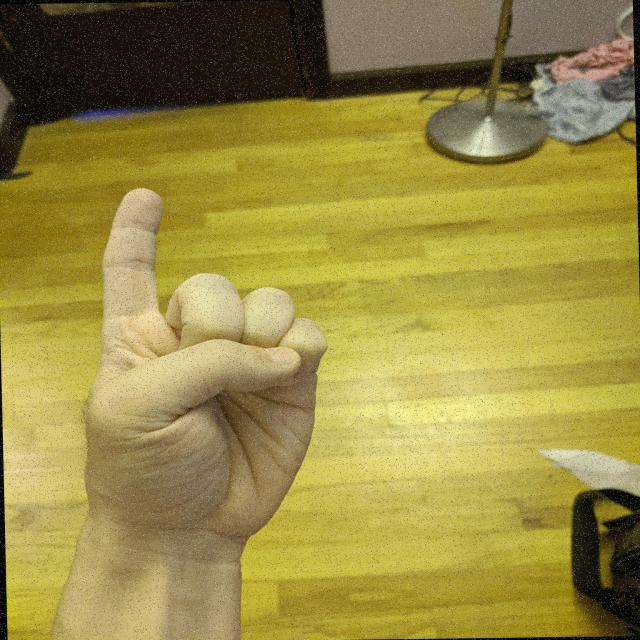D: (70, 179, 340, 551)
